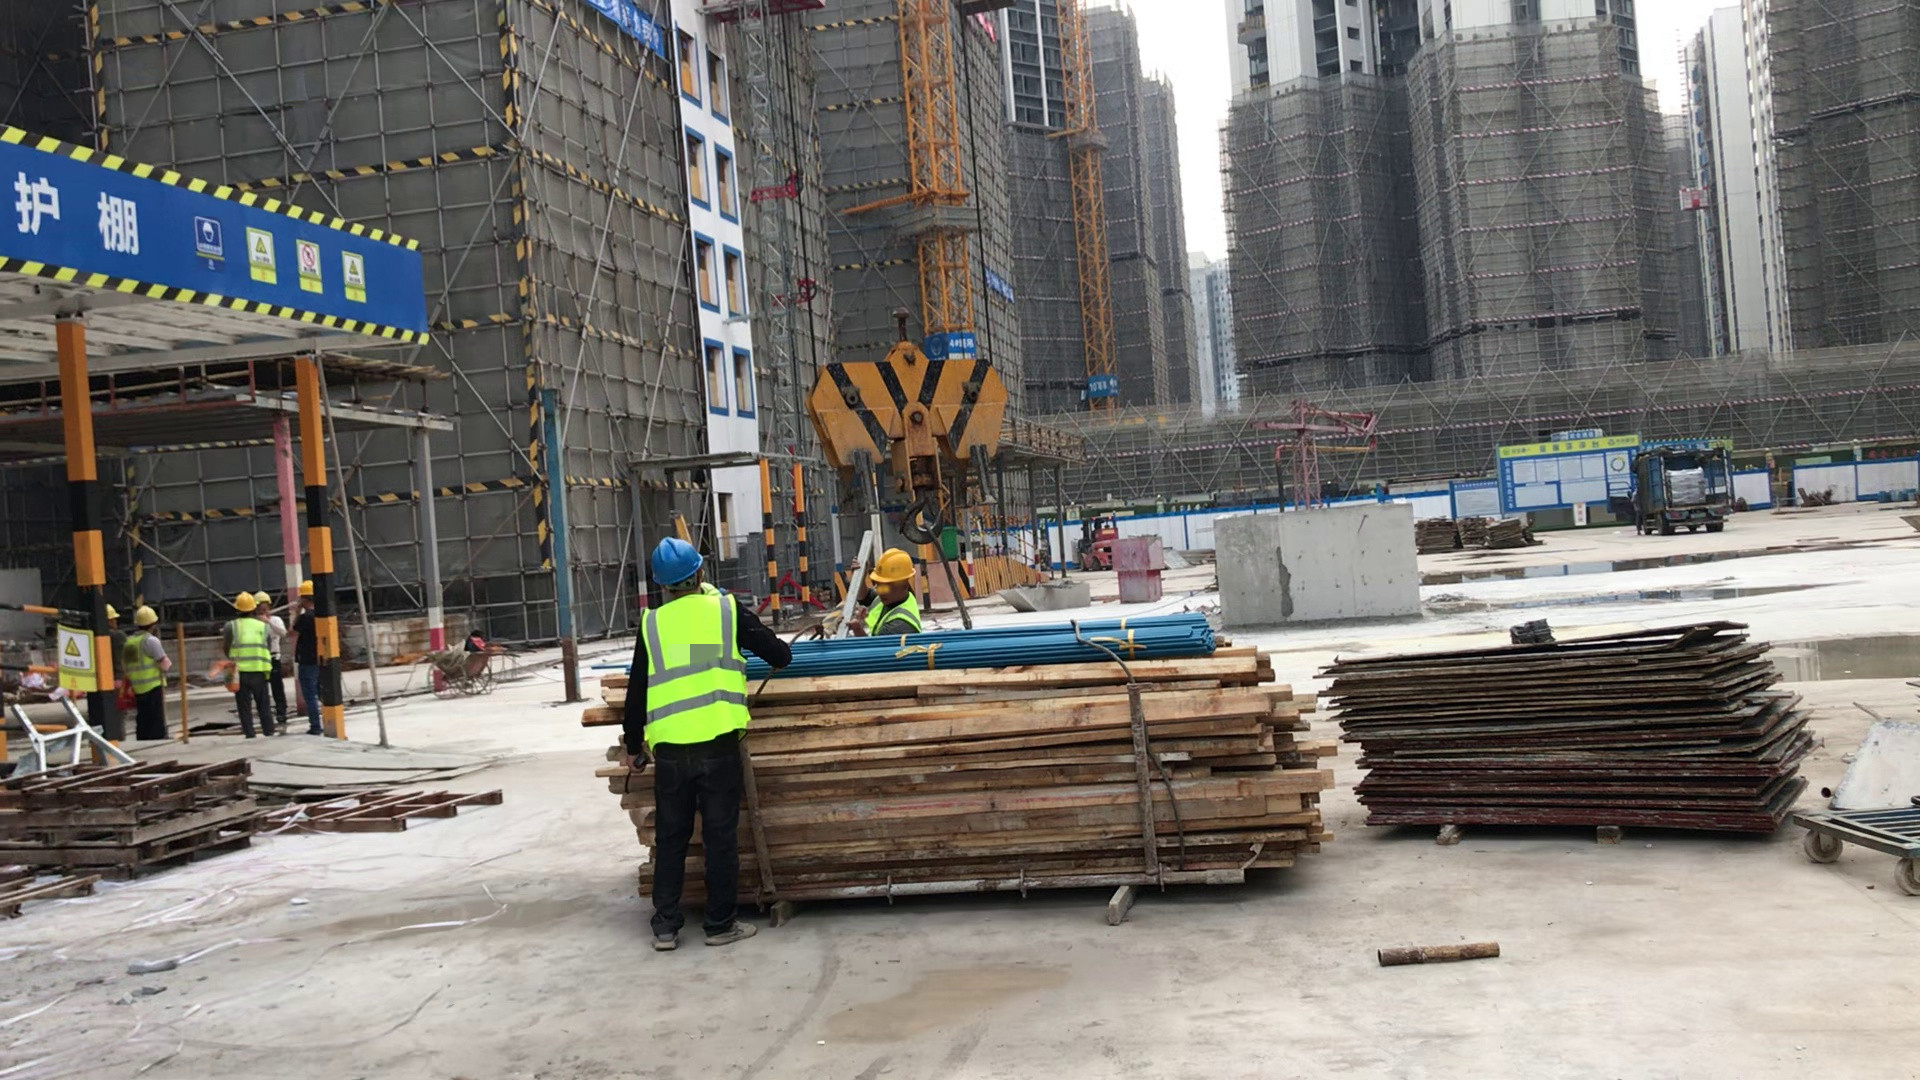board: (578, 674, 1326, 900), (1331, 626, 1812, 838)
handcart: (420, 642, 520, 699)
helmet: (640, 532, 712, 587), (865, 547, 917, 580), (232, 592, 257, 616), (132, 608, 162, 624), (297, 580, 316, 596), (258, 590, 273, 604), (105, 606, 121, 620)
hook: (816, 294, 1030, 502)
hopper: (1000, 570, 1091, 613)
person: (621, 519, 810, 960), (838, 535, 956, 650), (219, 591, 275, 742), (122, 601, 182, 741), (252, 585, 294, 740), (292, 573, 330, 737), (105, 597, 128, 735)
slogan: (18, 124, 435, 341), (576, 1, 668, 65)
vest: (642, 600, 750, 738), (855, 598, 925, 635), (119, 635, 167, 690), (229, 620, 273, 672)
